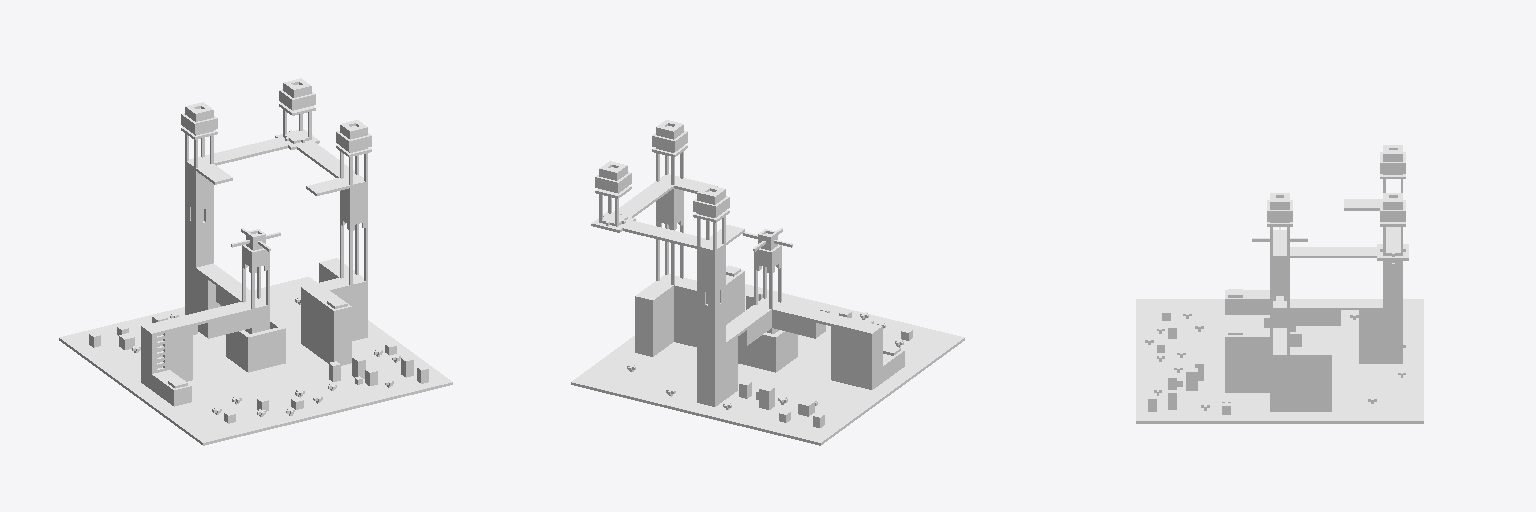
The model's file is monu1.obj.
3 views of the same model, side by side, from view 1: azimuth 30°, elevation 25°; view 2: azimuth 150°, elevation 25°; view 3: azimuth 270°, elevation 25° (orthographic).
Visible parts, largest first — view 1: object 1; view 2: object 1; view 3: object 1.
Part boxes in pixels (x1,y1,x2,y2): object 1: (59,78,452,445); object 1: (571,120,964,445); object 1: (1136,145,1423,423).
Bounding box in the file's own units: 9.7 × 7.9 × 9.7.